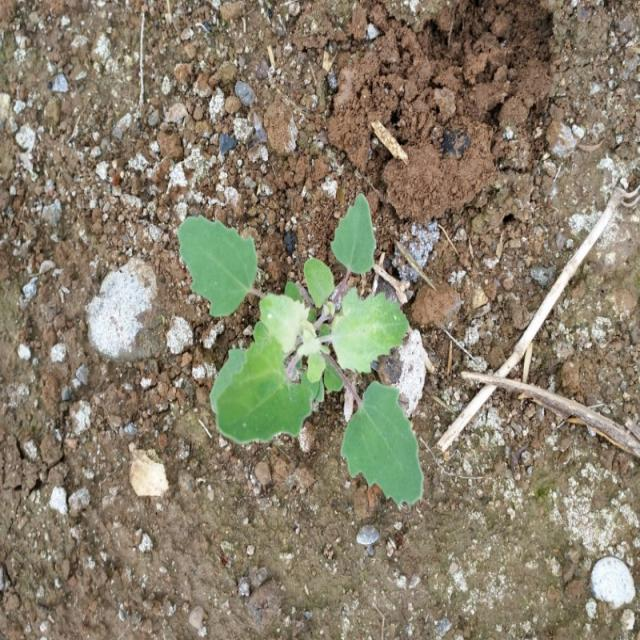ca: (178, 195, 424, 508)
